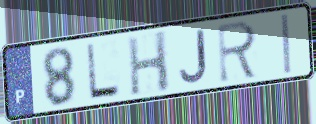8: (39, 45, 77, 108)
H: (125, 28, 172, 98)
I: (279, 12, 293, 76)
J: (177, 27, 210, 85)
L: (84, 41, 123, 101)
R: (216, 18, 260, 86)
